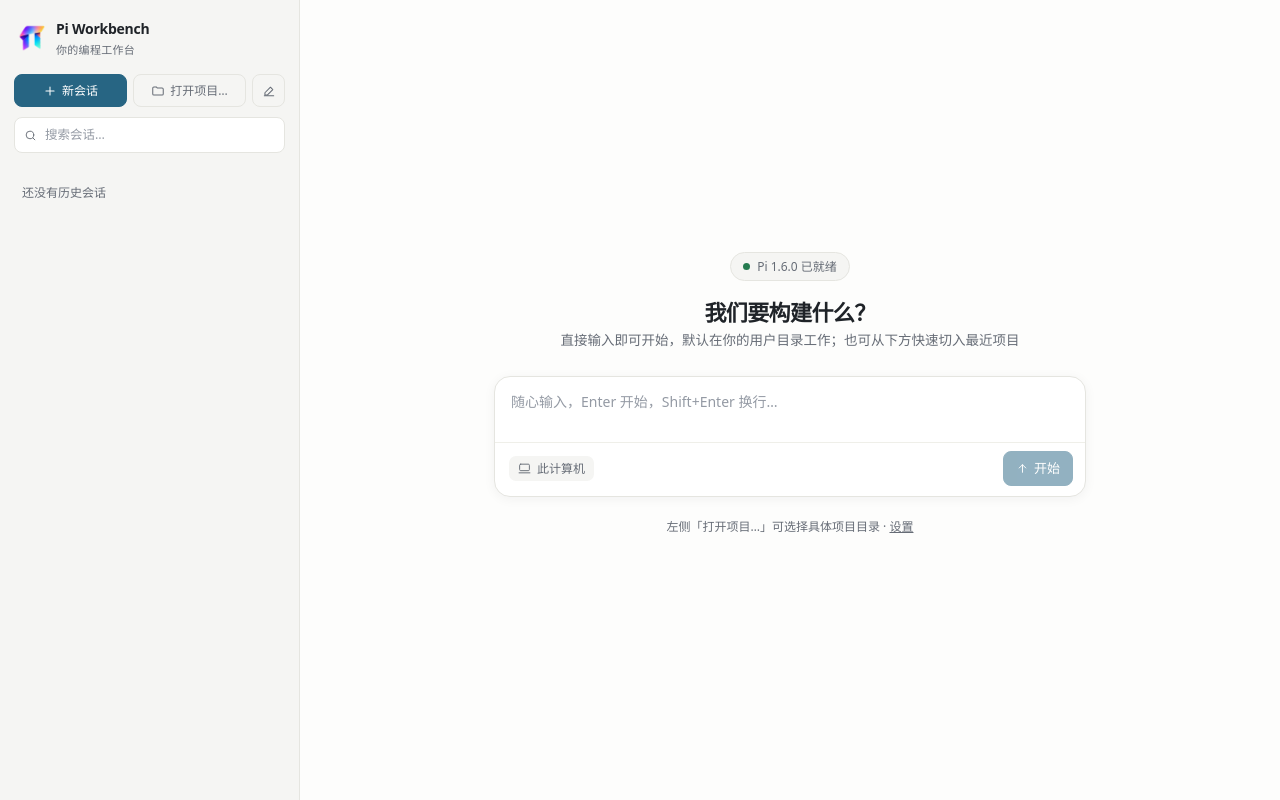
Test: welcome submission › keeps the welcome prompt when opening fails
The image size is (1280, 800).
Type "不要丢失" into the text box named "开始新对话". click: (790, 410)
box: x1=495 y1=377 x2=1085 y2=442
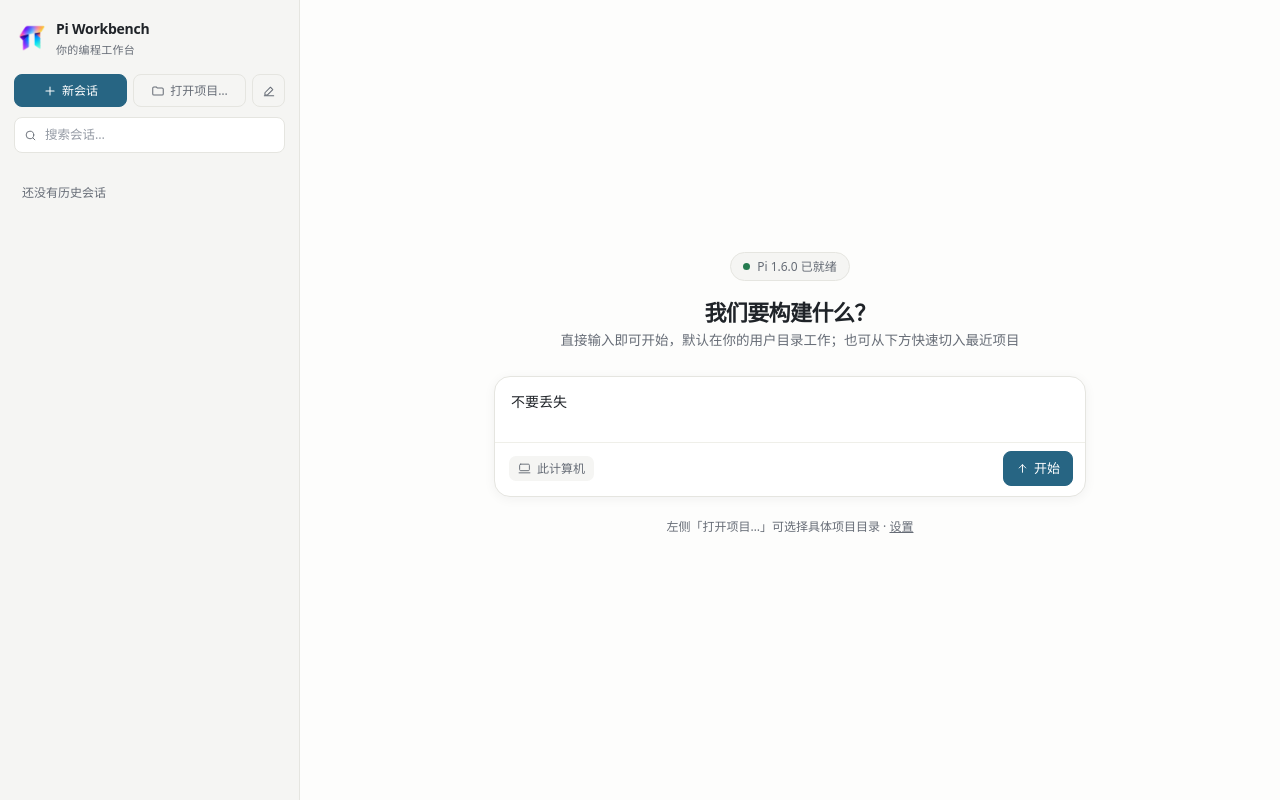
Click the button "开始". click: (1038, 469)
box: x1=1003 y1=451 x2=1073 y2=486
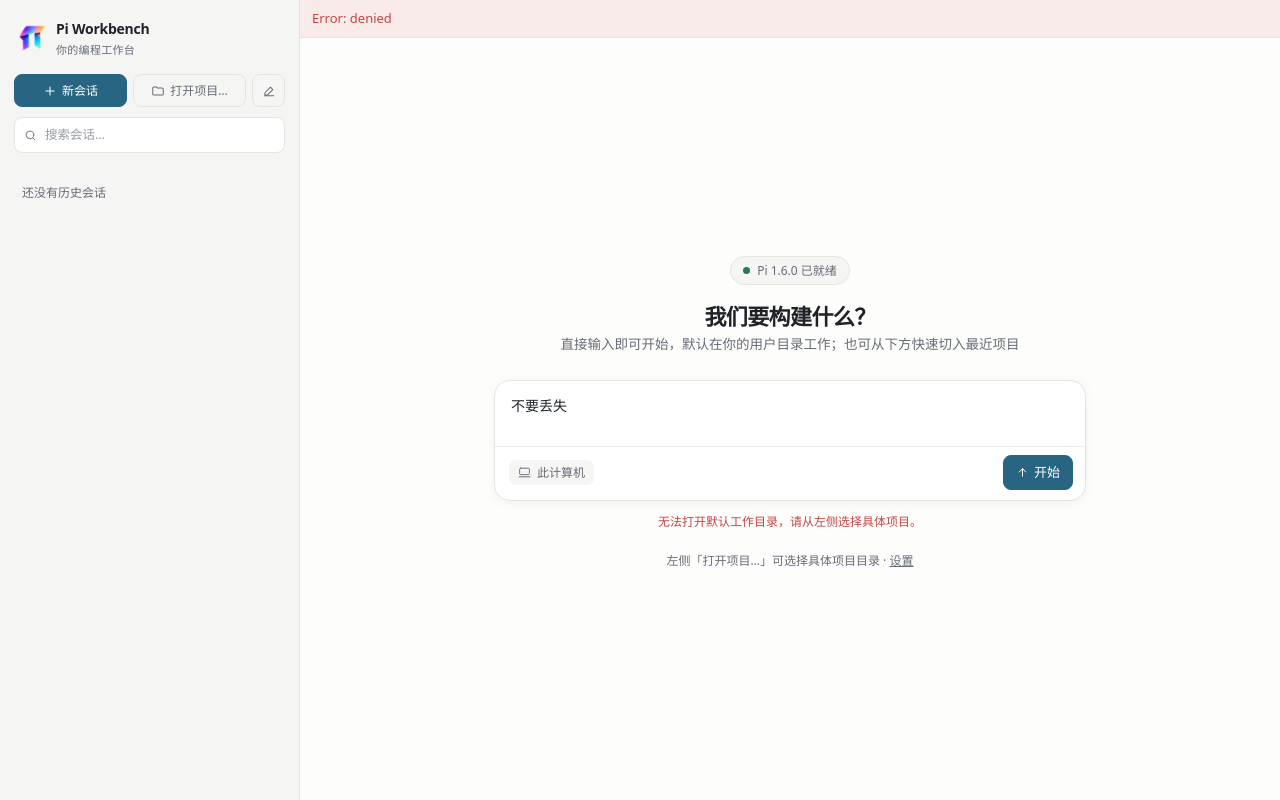
Now the text "无法打开默认工作目录，请从左侧选择具体项目。" is shown, box x1=658 y1=513 x2=922 y2=530
